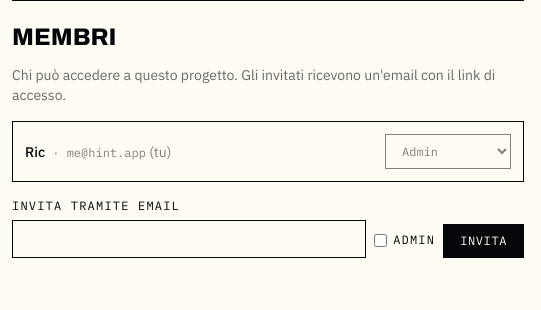
MembersSection › tells apart an existing account that was just added
In the field labelled "Invita tramite email": (189, 239) [12, 220, 366, 258], type "old@hint.app"
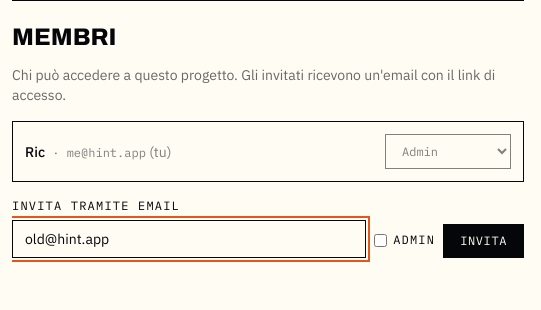
Click the button "Invita": (484, 241) [443, 224, 524, 258]
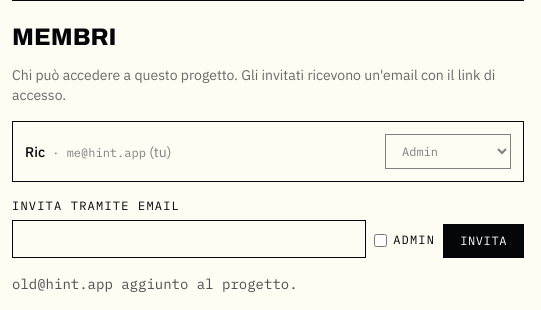
Result: the message reads "old@hint.app aggiunto al progetto." at [12, 275, 298, 293]
